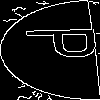P: (24, 25, 100, 60)
